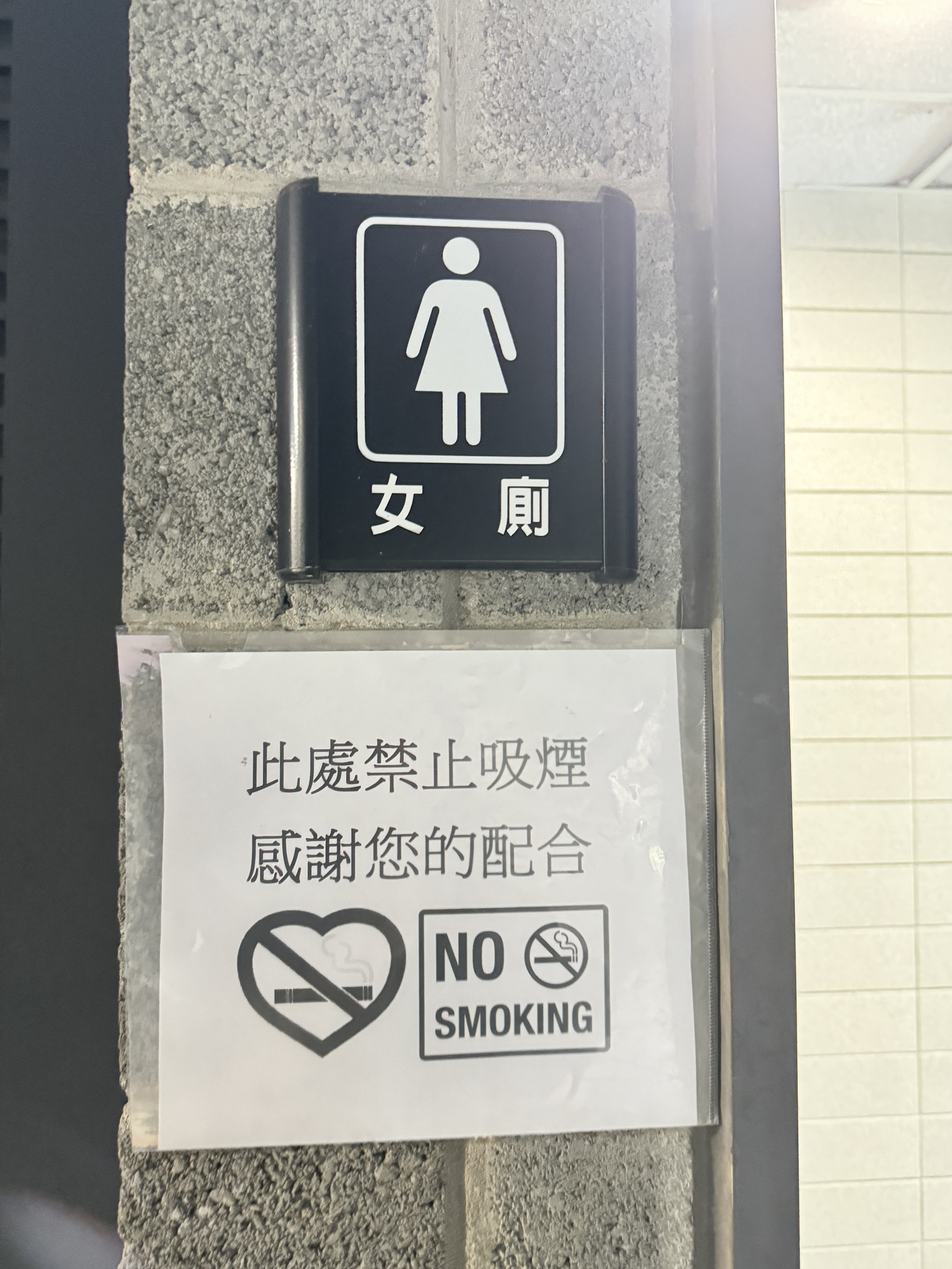toilet_sign: (255, 171, 646, 584)
